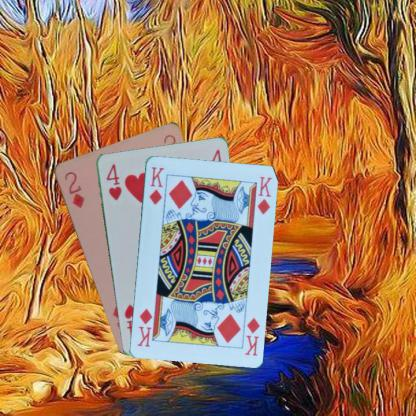2d: (61, 168, 86, 210)
4h: (103, 161, 122, 202)
Kd: (146, 164, 165, 206), (242, 315, 260, 357)
